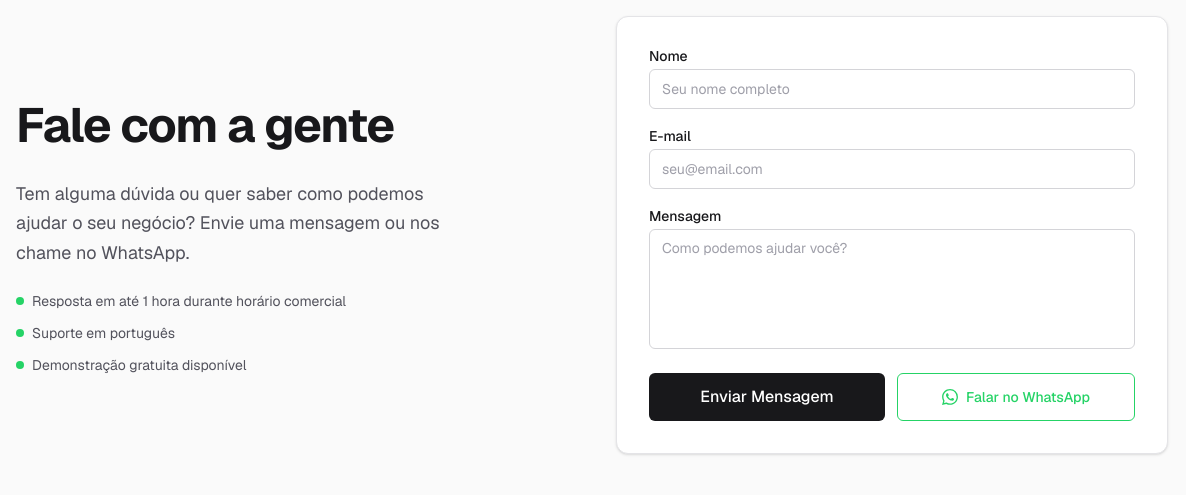
Test: Contact form › email validation error › shows invalid email error for bad email format
Type "João" into the field labelled "Nome".
click(892, 89); type("João")  # box top-left (649, 69), bottom-right (1135, 109)
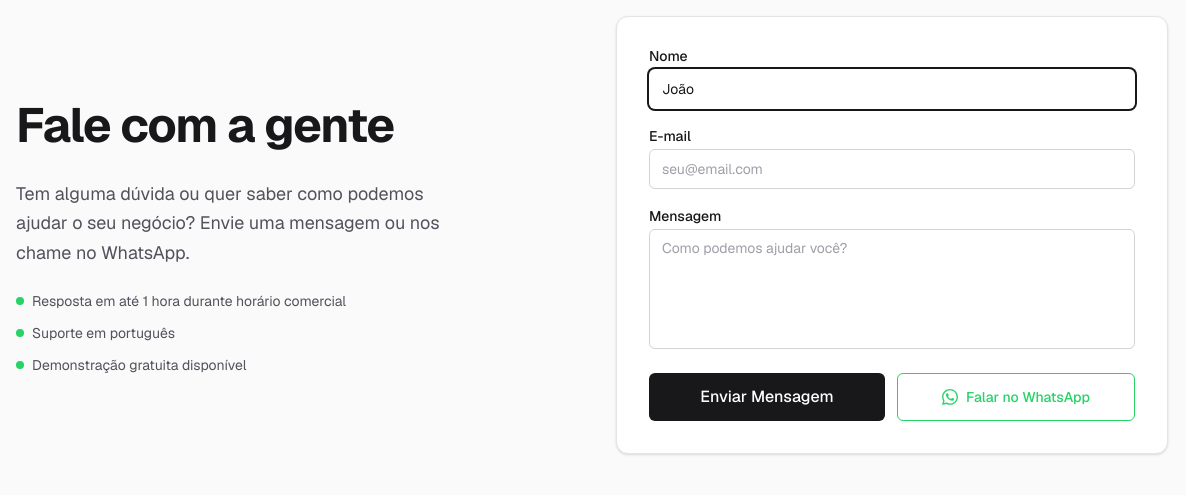
Type "not-an-email" into the field labelled "E-mail".
click(892, 169); type("not-an-email")  # box top-left (649, 149), bottom-right (1135, 189)
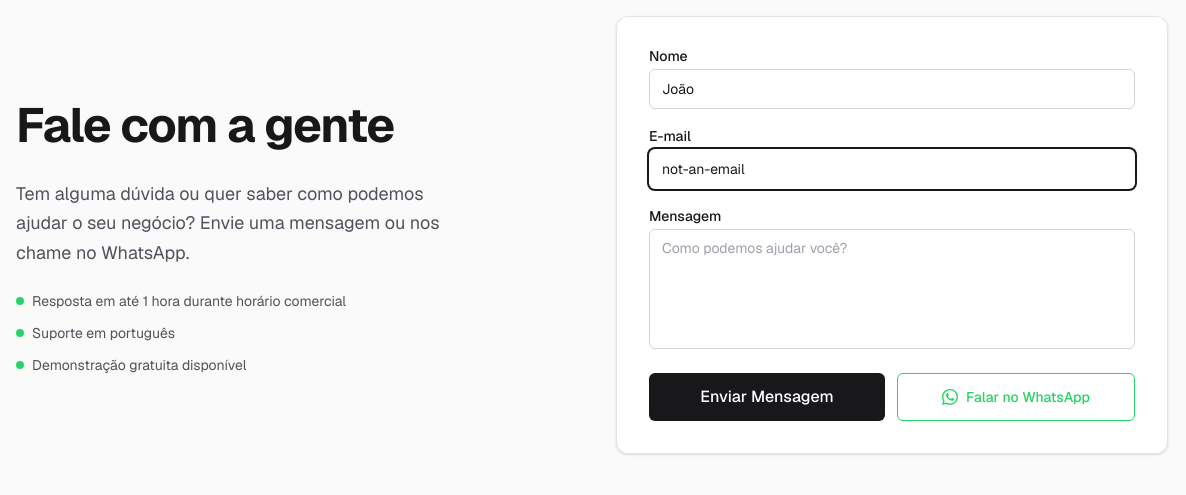
Type "Olá" into the text box labelled "Mensagem".
click(892, 289); type("Olá")  # box top-left (649, 229), bottom-right (1135, 349)
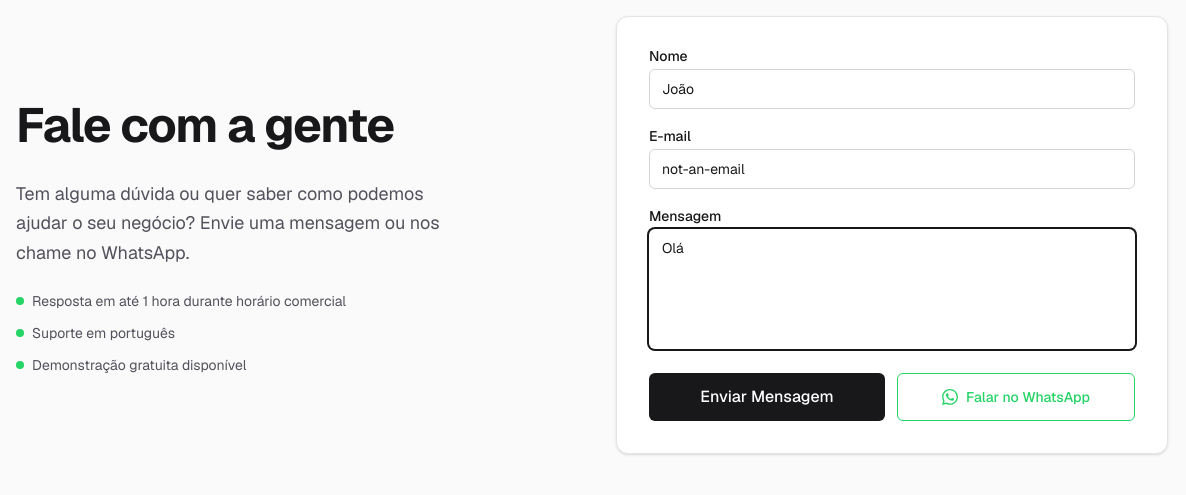
Click the button "Enviar Mensagem".
click(767, 397)  # box top-left (649, 373), bottom-right (885, 421)
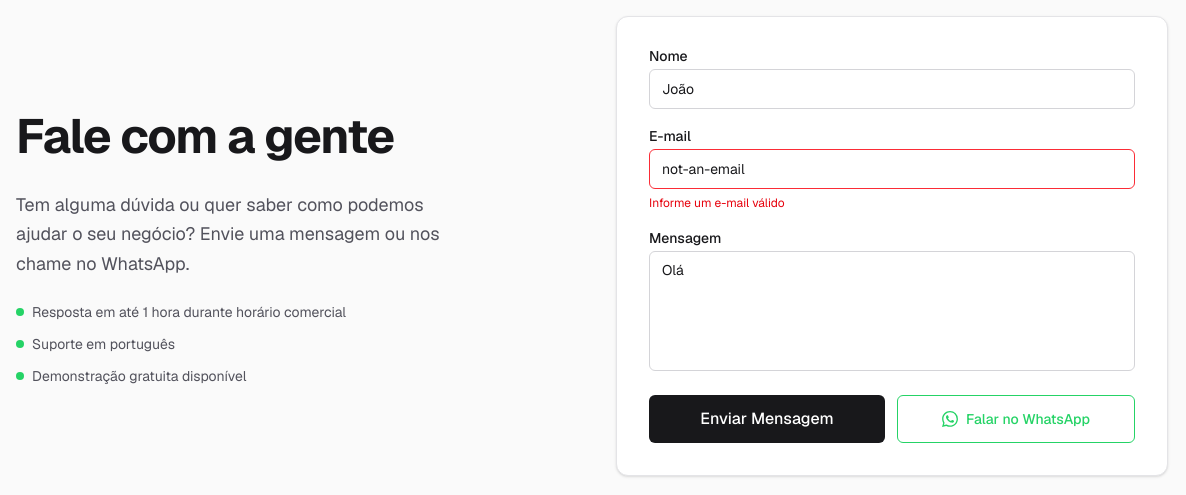
Check: the text "Informe um e-mail válido" is shown, box top-left (649, 195), bottom-right (785, 211)
